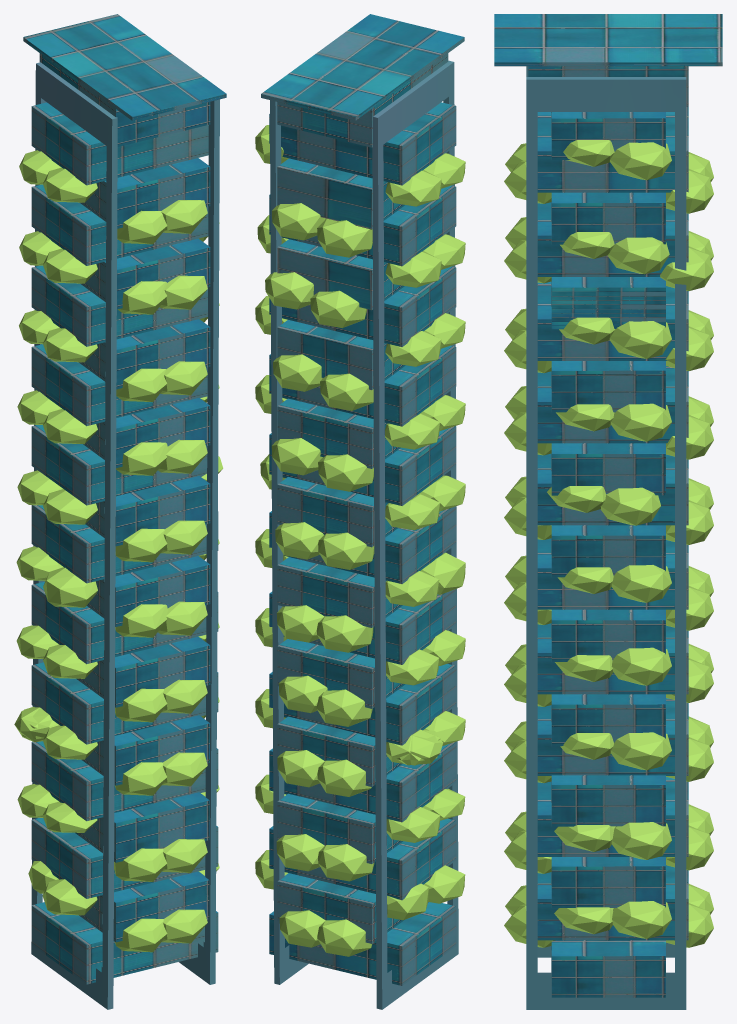
File: Flat NY.fbx
3 views of the same model, side by side, from view 1: azimuth 30°, elevation 25°; view 2: azimuth 150°, elevation 25°; view 3: azimuth 270°, elevation 25° (orthographic). The views are drawn at different scales.
Visible parts, largest first — view 1: Verdieping .021, Bush01.010, Bush01.052, Bush01.011, Bush01.001, Bush01.056, Bush01.055, Bush01.014, Bush01.054, Bush01.058, Bush01.017, Bush01.057 (+29 smaller); view 2: Verdieping .021, Bush01.035, Bush01.030, Bush01.031, Bush01.032, Bush01.034, Bush01.033, Bush01.024, Bush01.027, Bush01.022, Bush01.025, Bush01.038 (+36 smaller); view 3: Verdieping .021, Bush01.062, Bush01.068, Bush01.070, Bush01.061, Bush01.067, Bush01.065, Bush01.064, Bush01.063, Bush01.066, Bush01.069, Bush01.039 (+31 smaller).
Boxes of the visible parts, box(x1,y1,x2,y2) form: Verdieping .021: box(23, 14, 226, 1009); Bush01.010: box(43, 567, 97, 607); Bush01.052: box(114, 848, 167, 881); Bush01.011: box(43, 489, 97, 524); Bush01.001: box(42, 879, 97, 915); Bush01.056: box(115, 528, 167, 562); Bush01.055: box(115, 604, 168, 637); Bush01.014: box(43, 409, 97, 444); Bush01.054: box(115, 688, 167, 722); Bush01.058: box(116, 368, 167, 402); Bush01.017: box(43, 248, 97, 283); Bush01.057: box(116, 442, 168, 475); Verdieping .021: box(261, 14, 464, 1009); Bush01.035: box(317, 218, 372, 257); Bush01.030: box(316, 615, 373, 652); Bush01.031: box(318, 532, 374, 569); Bush01.032: box(318, 454, 373, 491); Bush01.034: box(310, 290, 366, 328); Bush01.033: box(320, 373, 373, 410); Bush01.024: box(318, 844, 374, 881); Bush01.027: box(316, 689, 372, 726); Bush01.022: box(317, 919, 372, 956); Bush01.025: box(317, 759, 371, 796); Bush01.038: box(273, 354, 322, 391); Verdieping .021: box(494, 14, 722, 1009); Bush01.062: box(611, 822, 671, 859); Bush01.068: box(609, 321, 671, 358); Bush01.070: box(610, 142, 671, 180); Bush01.061: box(612, 901, 671, 938); Bush01.067: box(611, 403, 671, 441); Bush01.065: box(611, 565, 671, 602); Bush01.064: box(611, 647, 671, 685); Bush01.063: box(611, 732, 671, 770); Bush01.066: box(600, 487, 660, 525); Bush01.069: box(607, 237, 669, 274); Bush01.039: box(660, 246, 713, 290).
Bounding box in the file's own units: 9446 × 45637 × 10000.
81 materials, 1 textured.
